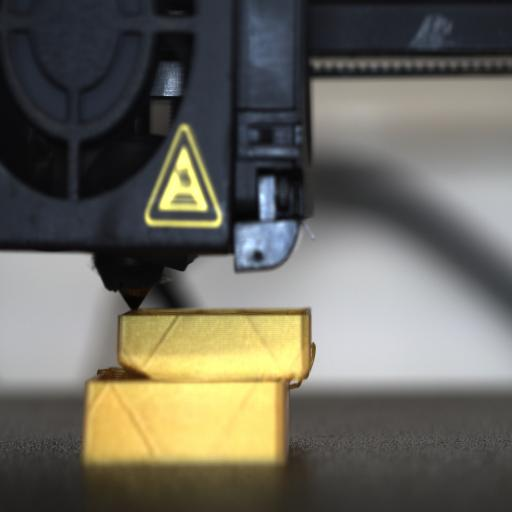layer_shift: (84, 361, 314, 388)
